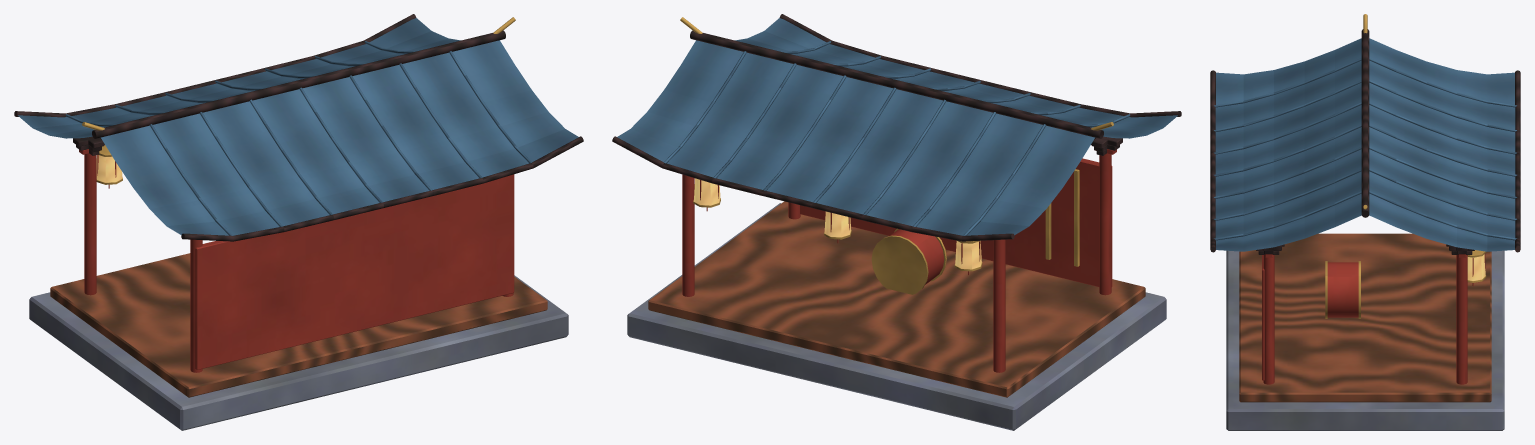
File: model-performance.glb
3 renders of one model, left to right at view 1: azimuth 30°, elevation 25°; view 2: azimuth 150°, elevation 25°; view 3: azimuth 270°, elevation 25°, orthographic. The views are drawn at different scales.
Parts seen in each view (by area): view 1: model-performance; view 2: model-performance; view 3: model-performance.
Boxes of the visible parts, <box> form: model-performance: <box>14,14,583,430</box>; model-performance: <box>612,14,1181,430</box>; model-performance: <box>1210,14,1520,430</box>.
Bounding box in the file's own units: 12.25 × 7.02 × 8.35.
7 materials, 7 textured.
